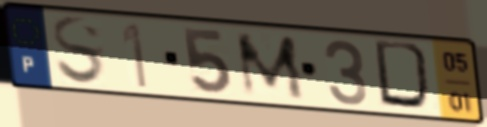1: (119, 20, 151, 91)
3: (322, 37, 369, 107)
5: (180, 25, 235, 96)
D: (371, 37, 438, 115)
M: (232, 32, 309, 102)
S: (49, 14, 109, 89)
